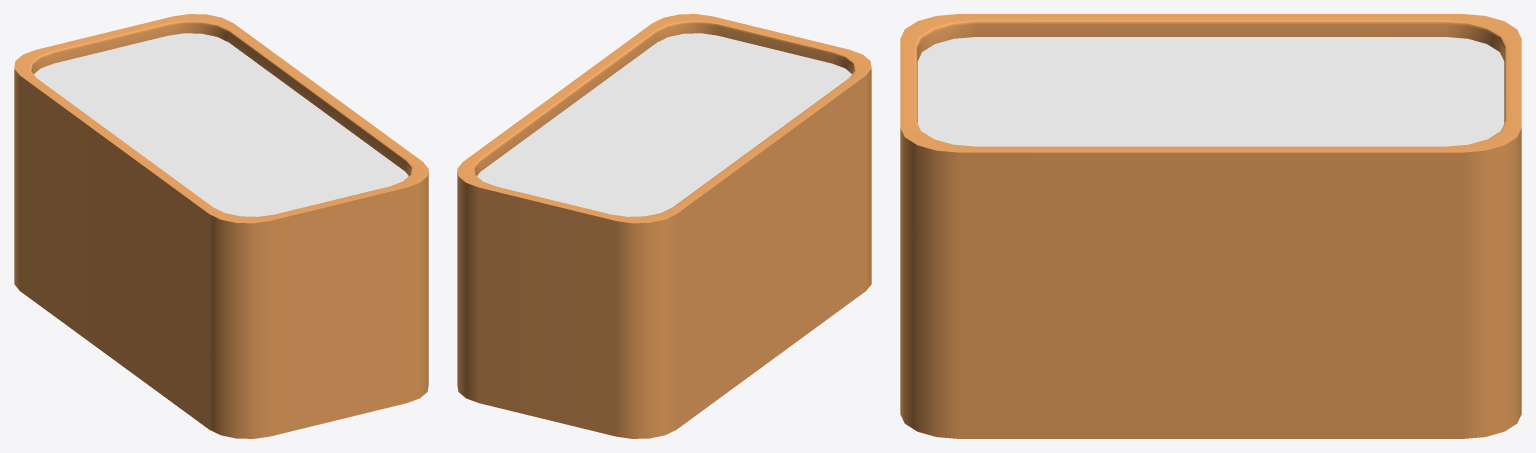
Rendered from map.fbx.
3 views of the same model, side by side, from view 1: azimuth 30°, elevation 25°; view 2: azimuth 150°, elevation 25°; view 3: azimuth 270°, elevation 25° (orthographic). The views are drawn at different scales.
Parts seen in each view (by area): view 1: floor, wall; view 2: floor, wall; view 3: floor, wall.
Boxes of the visible parts, bbox=[...] form: floor: bbox=[14, 14, 428, 438]; wall: bbox=[34, 33, 408, 216]; floor: bbox=[457, 14, 871, 438]; wall: bbox=[477, 33, 851, 216]; floor: bbox=[900, 14, 1521, 438]; wall: bbox=[917, 37, 1504, 146].
Bounding box in the file's own units: 190 × 183 × 360.
